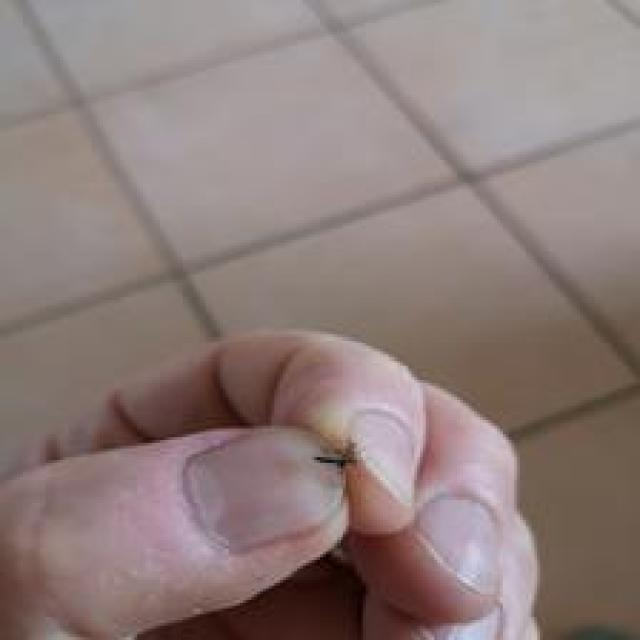Aedes albopictus: (313, 438, 361, 473)
